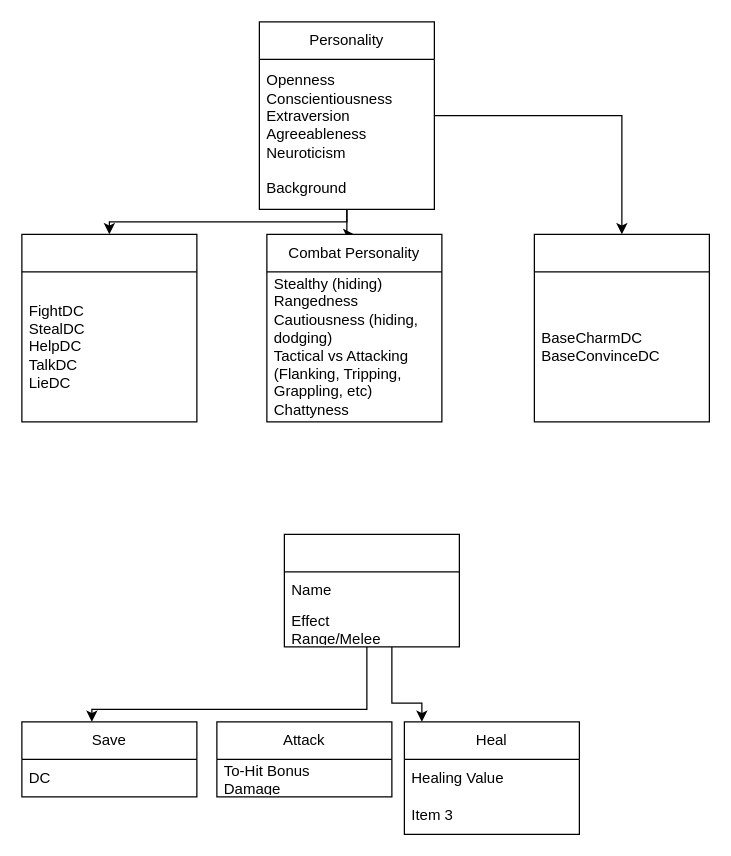
Some shapes in this 731 by 856 pixel diagram are drawn without their labels. Here are the shapes that lost their labels. From the top down, the box of each, then its label:
(21, 233, 197, 422): Behavior Personality
(533, 233, 709, 422): Interaction Personality
(283, 533, 459, 647): Ability/Item
